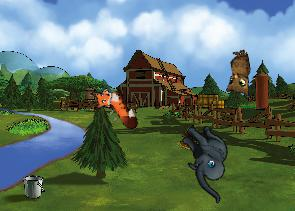elephant: (162, 117, 251, 204)
fox: (86, 78, 141, 140)
owl: (219, 48, 254, 99)
